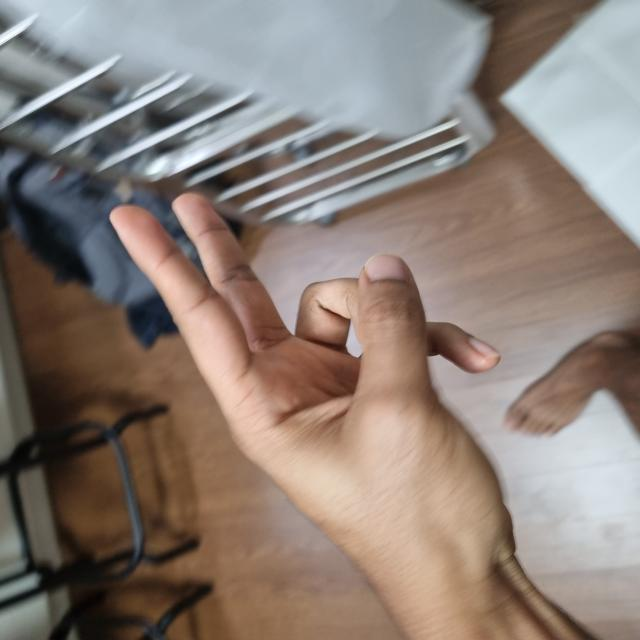Scissors: (1, 187, 401, 637)
